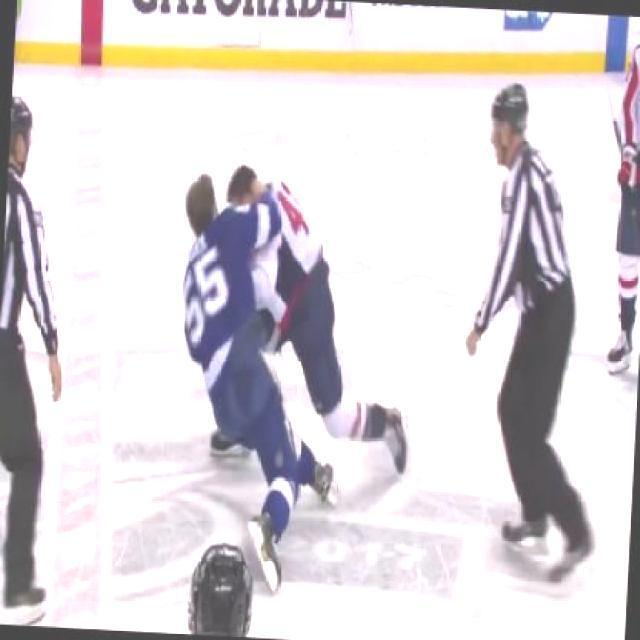fight: (164, 153, 416, 512)
